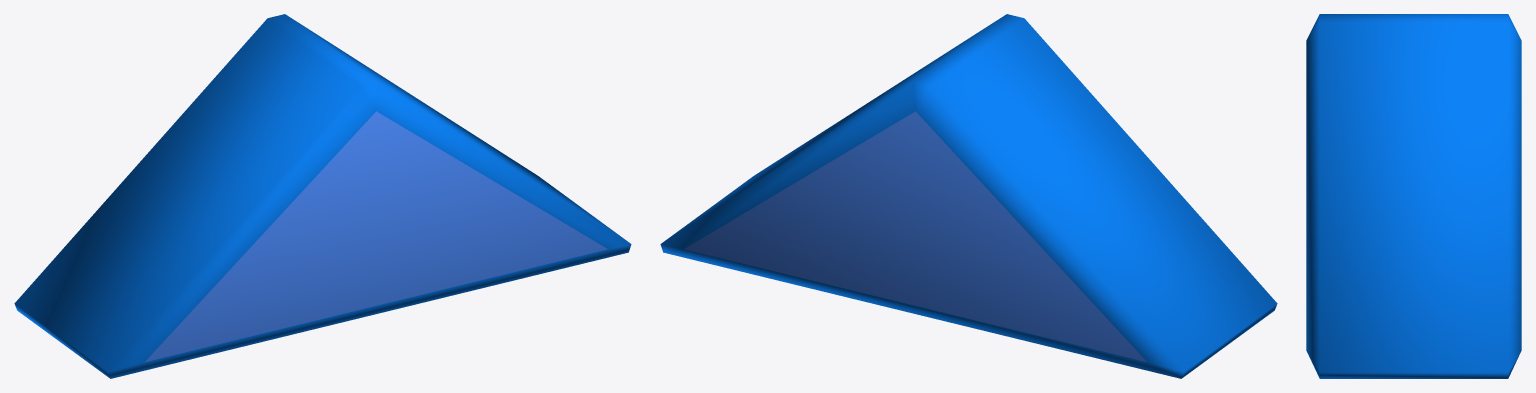
File: pinball.deltablock.fbx
The picture shows the model from 3 angles, left to right: view 1: azimuth 30°, elevation 25°; view 2: azimuth 150°, elevation 25°; view 3: azimuth 270°, elevation 25°; orthographic projection.
Parts seen in each view (by area): view 1: Cube; view 2: Cube; view 3: Cube.
Boxes of the visible parts, x1=… form: Cube: x1=14, y1=14, x2=631, y2=378; Cube: x1=660, y1=14, x2=1277, y2=378; Cube: x1=1306, y1=14, x2=1521, y2=378.
Size of the model in its own units: 0.2802 by 0.1183 by 0.0989.
